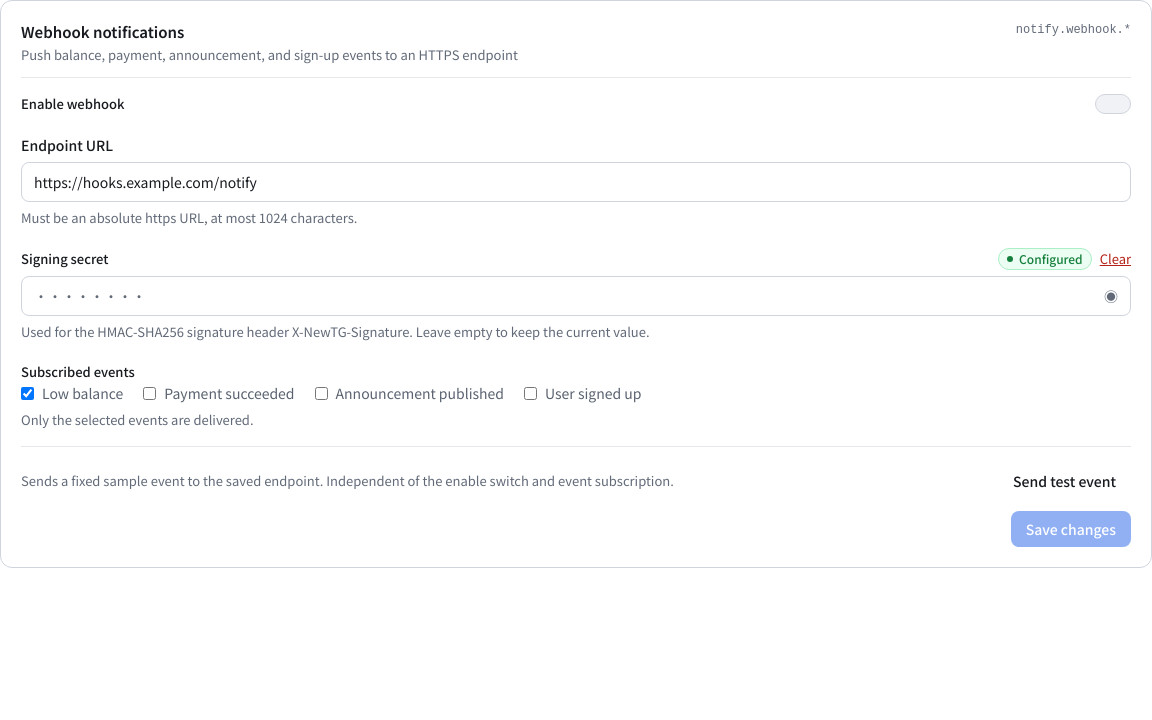
it: Webhook settings section › reports a successful test event with the target status code
Click the button "Send test event" at (1064, 481), box [998,463,1131,499]
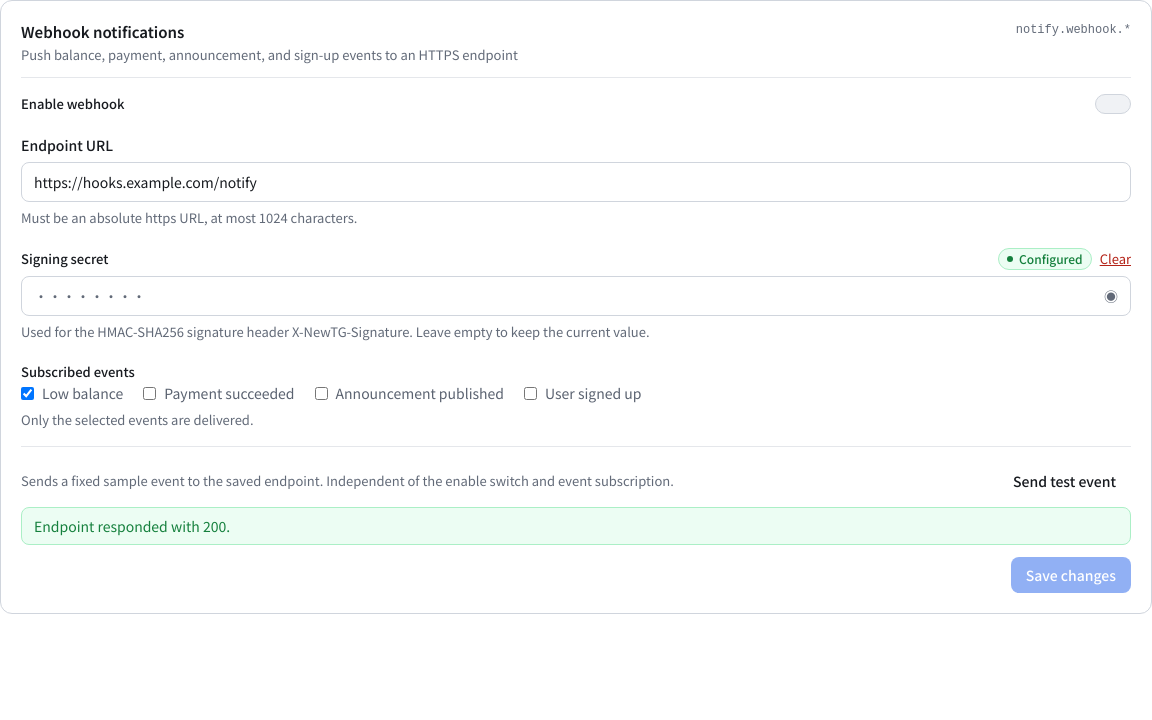
expect the button "Save changes" is disabled: met, box [1011,557,1131,593]
expect the text "Endpoint responded with 200." is shown: met, box [21,507,1131,545]
